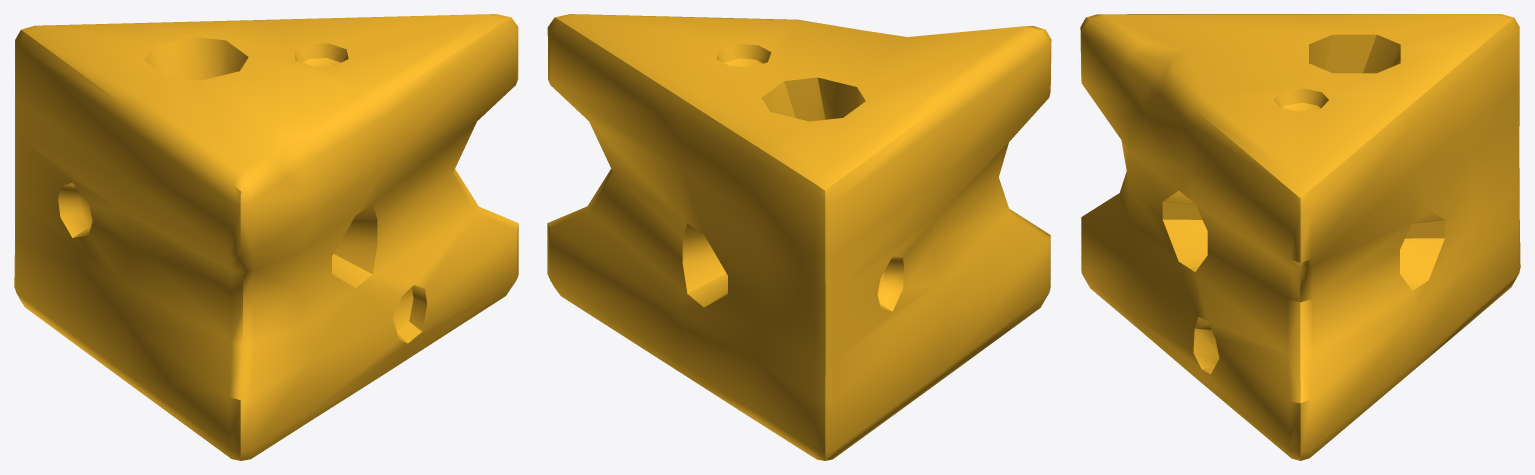
Rendered from cheese.gltf.glb.
3 renders of one model, left to right at view 1: azimuth 30°, elevation 25°; view 2: azimuth 150°, elevation 25°; view 3: azimuth 270°, elevation 25°, orthographic. The views are drawn at different scales.
Visible parts, largest first — view 1: cheese; view 2: cheese; view 3: cheese.
Boxes of the visible parts, x1,y1,x2,y2 form: cheese: [14, 14, 518, 460]; cheese: [547, 14, 1051, 460]; cheese: [1080, 14, 1520, 460].
Size of the model in its own units: 0.4308 by 0.2981 by 0.4264.
